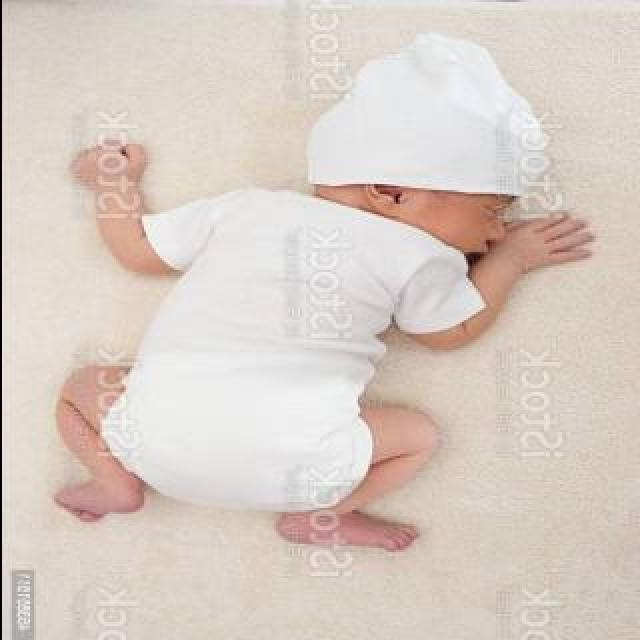baby: (51, 36, 595, 554)
